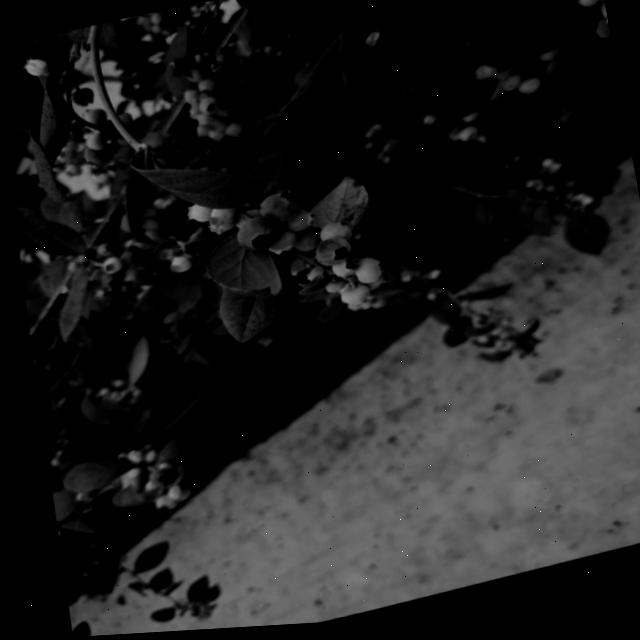RipeBlueBerry: (222, 216, 278, 262)
Semi-RipeBlueBerry: (246, 184, 302, 233), (303, 236, 356, 279)
